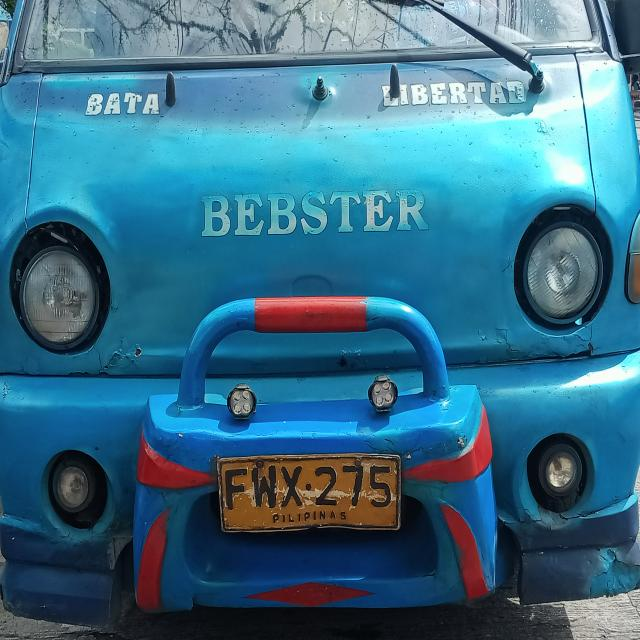plate: (213, 450, 404, 536)
